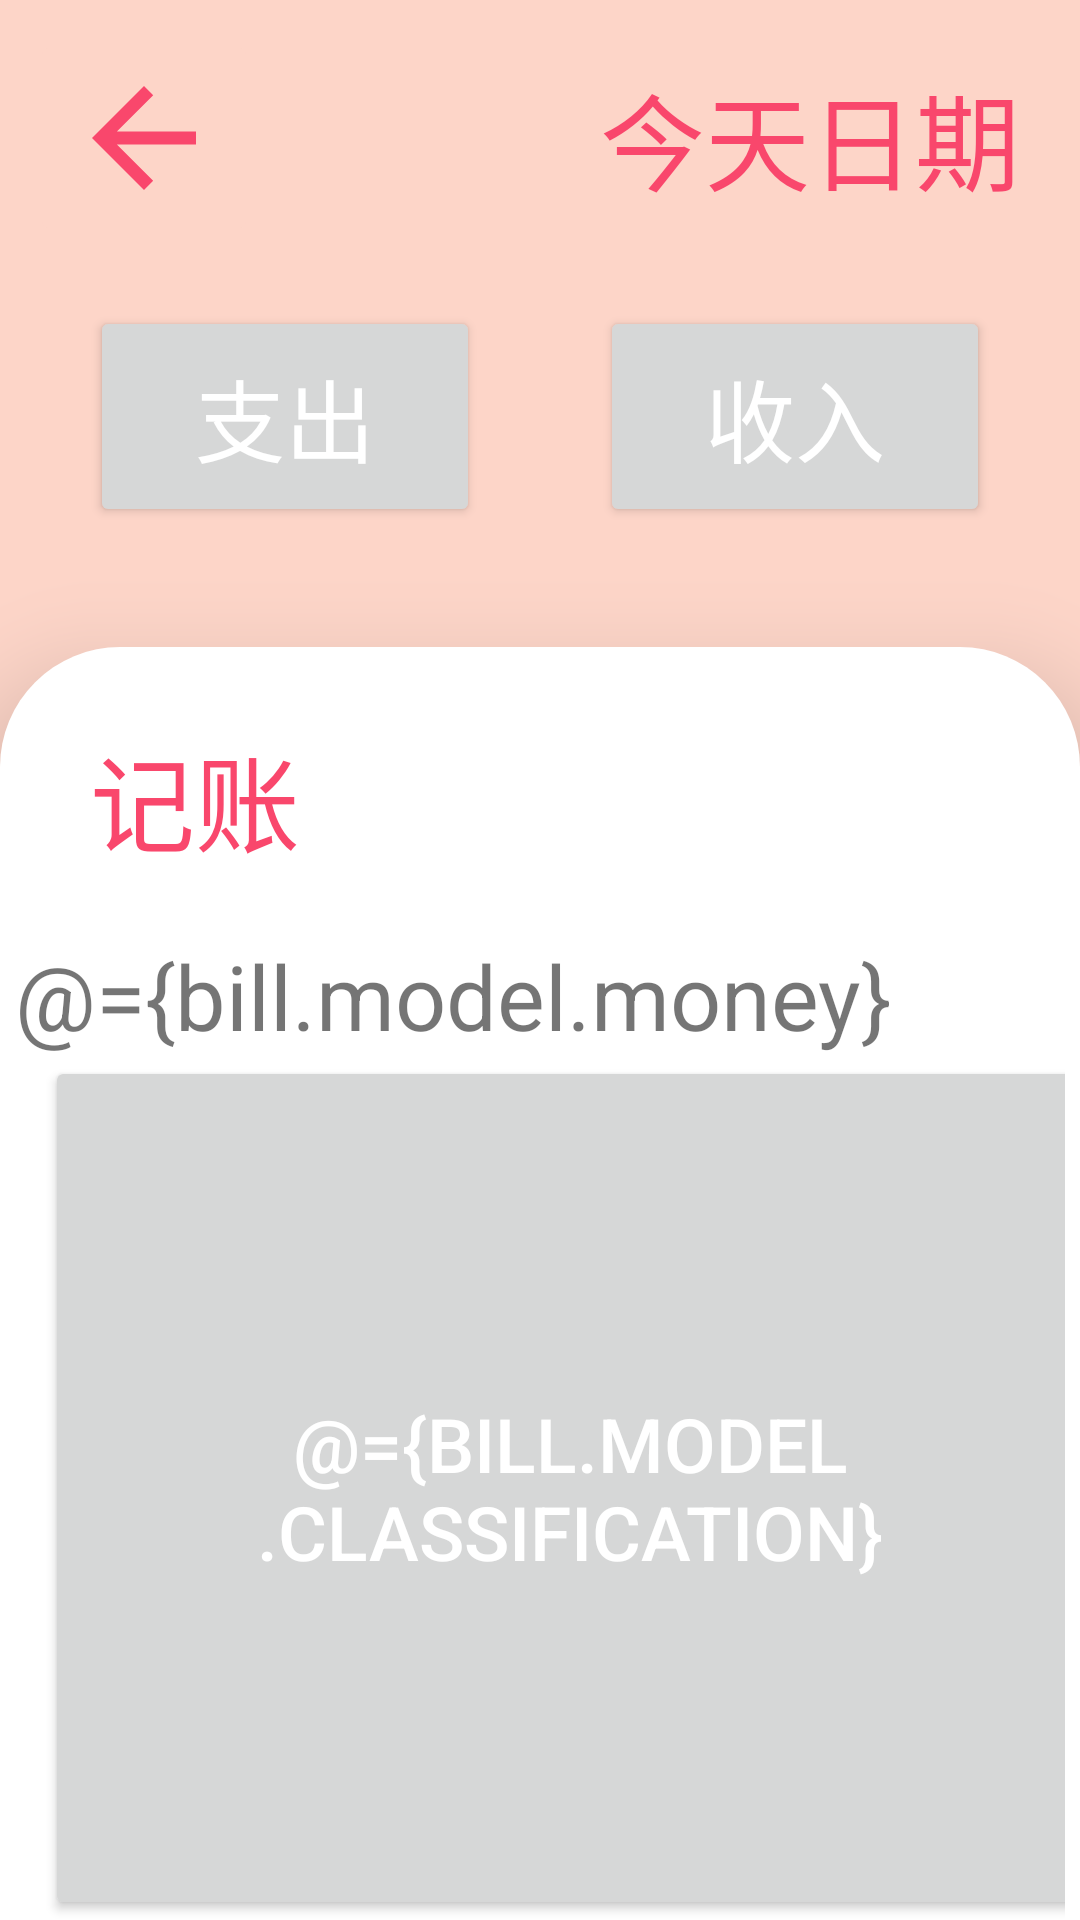

Screen size 1080w x 1920h. Icon name, then its center in pixels as (x,y):
add bill back: (144,138)
